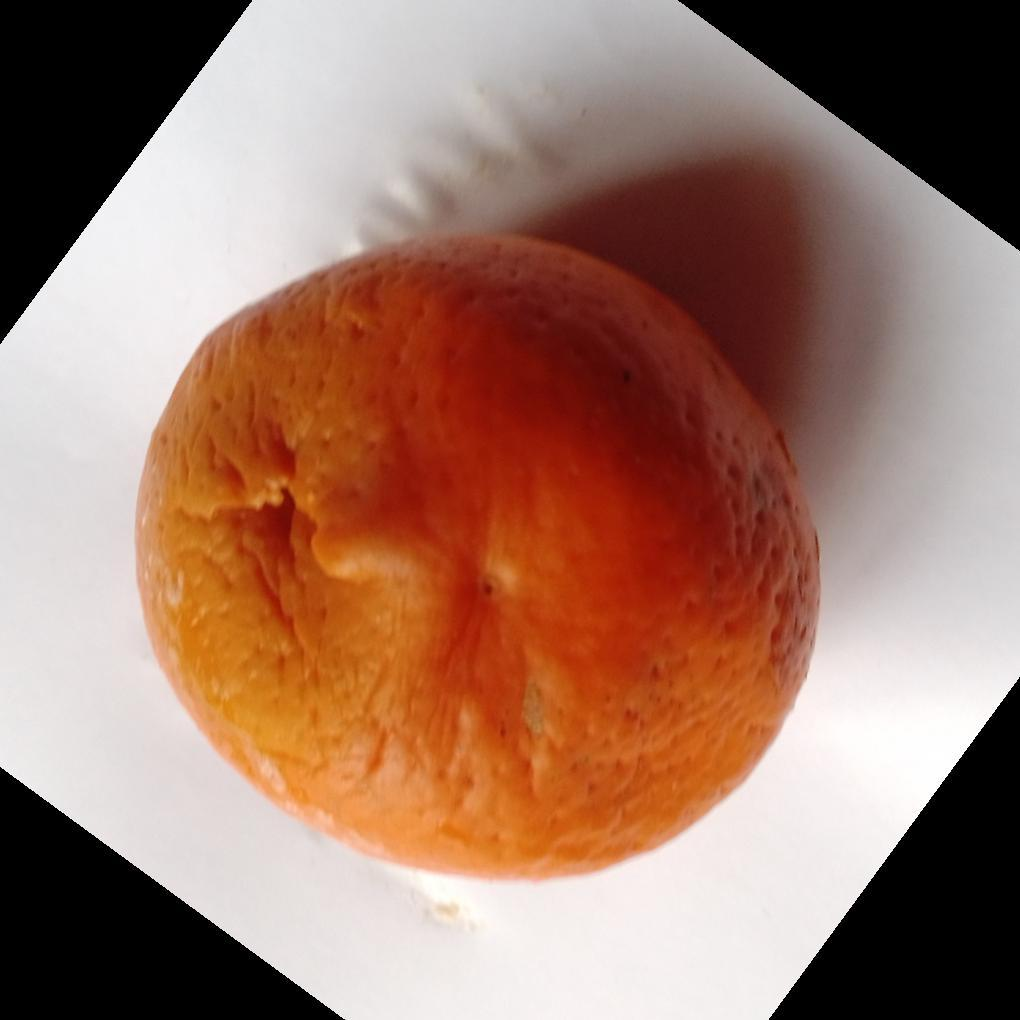FreshOrange: (132, 233, 823, 886)
